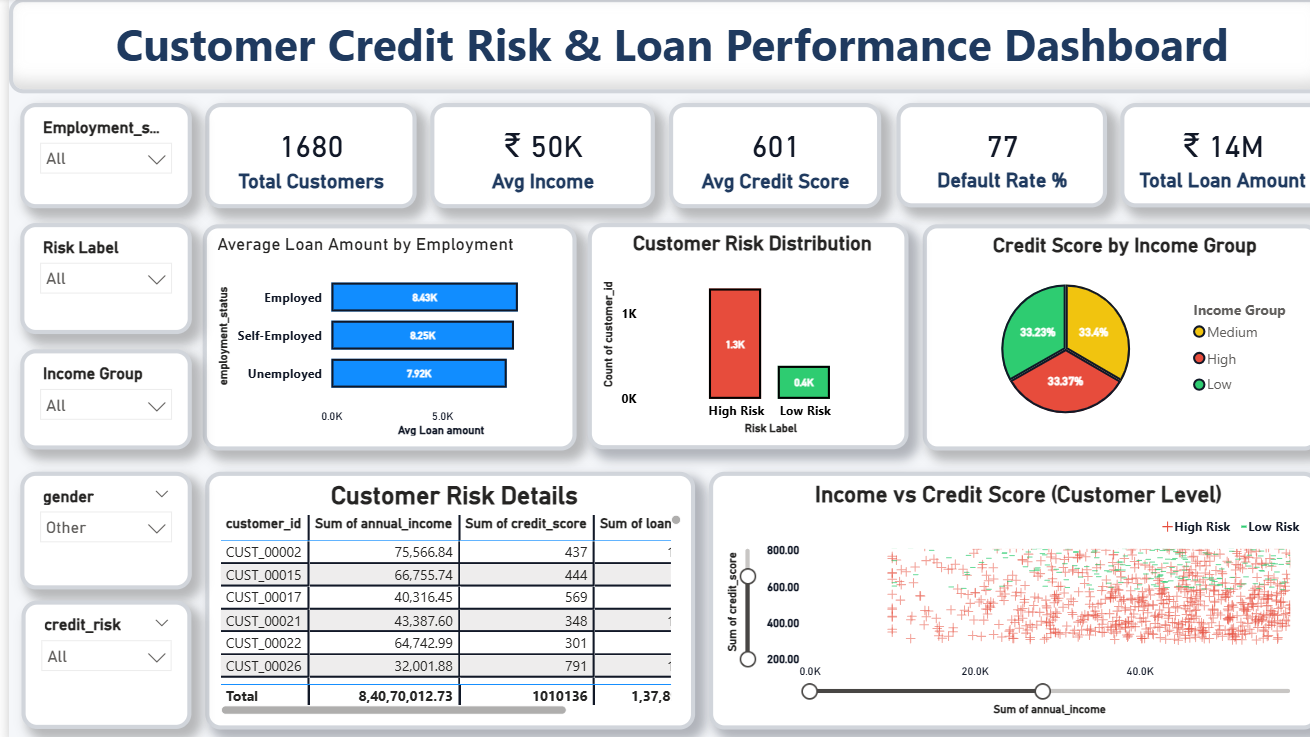

The page's visual inventory and layout, read from the dashboard file:
{"tool":"powerbi","page":{"name":"Page 1","canvas":[1280,720],"ordinal":0},"visuals":[{"type":"card","fields":{"Values":["credit_risk_dataset.Total Customers"]},"box":[189.6,101.3,203.9,101.3],"z":0},{"type":"textbox","box":[0,0,1280.3,91.7],"z":1000},{"type":"card","fields":{"Values":["credit_risk_dataset.Avg Income"]},"box":[406.9,101.3,217.2,101.3],"z":2000},{"type":"card","fields":{"Values":["credit_risk_dataset.Avg Credit Score"]},"box":[637.5,101.3,205.1,101.3],"z":3000},{"type":"card","fields":{"Values":["credit_risk_dataset.Default Rate"]},"box":[856,101.8,203.5,100.5],"z":4000},{"type":"card","fields":{"Values":["credit_risk_dataset.Total Loan"]},"box":[1073,101.8,197.3,100.5],"z":5000},{"type":"barChart","title":"Average Loan Amount by Employment","fields":{"Category":["credit_risk_dataset.employment_status"],"Y":["credit_risk_dataset.Avg Loan amount"]},"box":[187,218.4,360.7,218.4],"z":6000},{"type":"pieChart","fields":{"Category":["credit_risk_dataset.Risk Label"],"Y":["CountNonNull(credit_risk_dataset.customer_id)"]},"box":[988.8,502.6,251.3,135.7],"z":7000},{"type":"tableEx","title":"Customer Risk Details","fields":{"Values":["credit_risk_dataset.customer_id","Sum(credit_risk_dataset.annual_income)","Sum(credit_risk_dataset.credit_score)","Sum(credit_risk_dataset.loan_amount)","credit_risk_dataset.Risk Label"]},"box":[189.4,457.2,472.9,248.5],"z":8000},{"type":"pieChart","title":"Credit Score by Income Group","fields":{"Category":["credit_risk_dataset.Income Group"],"Y":["credit_risk_dataset.Avg Credit Score"]},"box":[881.6,218.1,382.1,218.1],"z":9000},{"type":"slicer","fields":{"Values":["credit_risk_dataset.employment_status"]},"box":[10.9,101.3,165.3,101.3],"z":10000},{"type":"scatterChart","title":"Income vs Credit Score (Customer Level)","fields":{"X":["Sum(credit_risk_dataset.annual_income)"],"Y":["Sum(credit_risk_dataset.credit_score)"],"Series":["credit_risk_dataset.Risk Label"],"Category":["credit_risk_dataset.customer_id"]},"box":[675.6,457.2,588.7,248.5],"z":12000},{"type":"columnChart","title":"Customer Risk Distribution","fields":{"Category":["credit_risk_dataset.Risk Label"],"Y":["CountNonNull(credit_risk_dataset.customer_id)"]},"box":[558.2,216.6,309.9,218.1],"z":13000},{"type":"slicer","fields":{"Values":["credit_risk_dataset.Risk Label"]},"box":[10.9,217.2,165.3,107.4],"z":14000},{"type":"slicer","fields":{"Values":["credit_risk_dataset.Income Group"]},"box":[10.9,339,165.3,96.5],"z":15000},{"type":"slicer","fields":{"Values":["credit_risk_dataset.gender"]},"box":[10.9,457.2,165.3,113.4],"z":15001},{"type":"slicer","fields":{"Values":["credit_risk_dataset.credit_risk"]},"box":[12.1,581.5,164.1,124.3],"z":15002}]}

Visuals, with their boxes in screenshot pixels (x1, y1, x2, y2), scaled from the page's 1280x720 canvas onto the 1310x737 screenshot:
card - credit_risk_dataset.Total Customers: [194,104,403,207]
textbox: [0,0,1309,94]
card - credit_risk_dataset.Avg Income: [416,104,639,207]
card - credit_risk_dataset.Avg Credit Score: [652,104,862,207]
card - credit_risk_dataset.Default Rate: [876,104,1084,207]
card - credit_risk_dataset.Total Loan: [1098,104,1300,207]
"Average Loan Amount by Employment" barChart: [191,224,561,447]
pieChart - credit_risk_dataset.Risk Label x CountNonNull(credit_risk_dataset.customer_id): [1012,514,1269,653]
"Customer Risk Details" tableEx: [194,468,678,722]
"Credit Score by Income Group" pieChart: [902,223,1293,446]
slicer - credit_risk_dataset.employment_status: [11,104,180,207]
"Income vs Credit Score (Customer Level)" scatterChart: [691,468,1294,722]
"Customer Risk Distribution" columnChart: [571,222,888,445]
slicer - credit_risk_dataset.Risk Label: [11,222,180,332]
slicer - credit_risk_dataset.Income Group: [11,347,180,446]
slicer - credit_risk_dataset.gender: [11,468,180,584]
slicer - credit_risk_dataset.credit_risk: [12,595,180,722]
